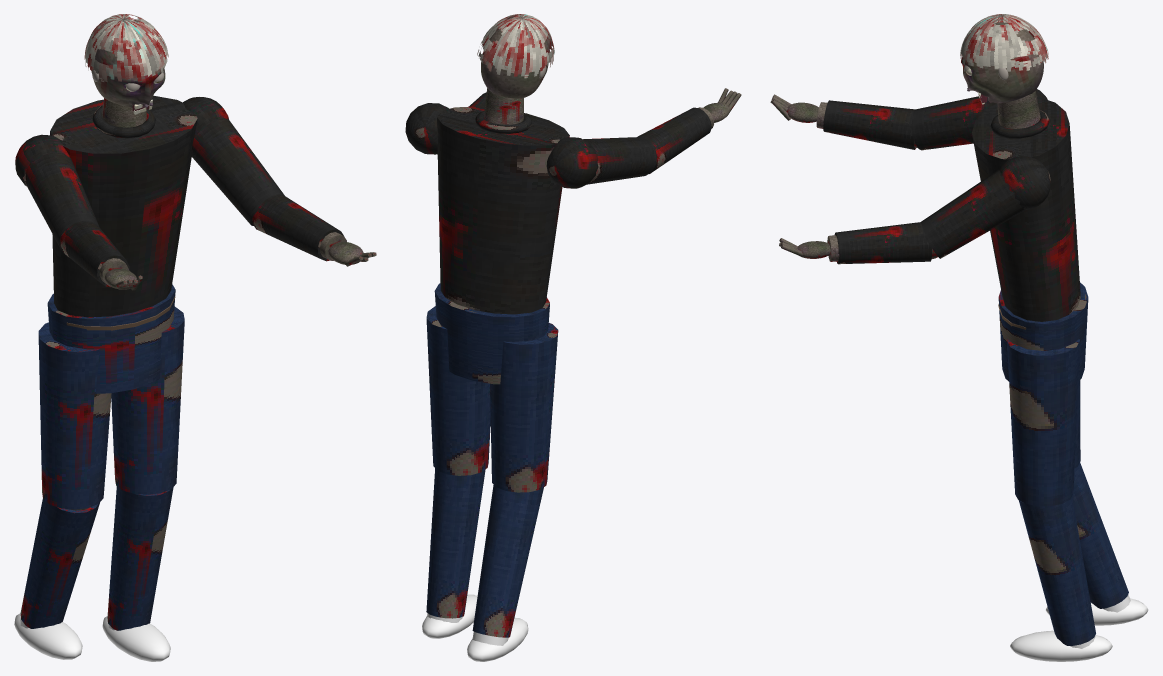
Rendered from Zombie_040.glb.
The picture shows the model from 3 angles, left to right: view 1: azimuth 30°, elevation 25°; view 2: azimuth 150°, elevation 25°; view 3: azimuth 270°, elevation 25°; orthographic projection. The views are drawn at different scales.
Parts seen in each view (by area): view 1: Zombie_040, object 44, object 12, object 4, object 18, object 13; view 2: Zombie_040, object 44, object 4, object 18; view 3: Zombie_040, object 12, object 4, object 44, object 18, object 43, object 5.
Boxes of the visible parts, x1=… form: Zombie_040: x1=14, y1=95, x2=284, y2=661; object 44: x1=84, y1=14, x2=168, y2=81; object 12: x1=252, y1=194, x2=344, y2=261; object 4: x1=60, y1=221, x2=129, y2=287; object 18: x1=91, y1=49, x2=165, y2=108; object 13: x1=328, y1=242, x2=363, y2=264; Zombie_040: x1=405, y1=88, x2=656, y2=661; object 44: x1=477, y1=14, x2=554, y2=76; object 4: x1=637, y1=107, x2=711, y2=173; object 18: x1=481, y1=29, x2=550, y2=98; Zombie_040: x1=911, y1=89, x2=1148, y2=661; object 12: x1=834, y1=222, x2=931, y2=264; object 4: x1=823, y1=100, x2=915, y2=149; object 44: x1=960, y1=14, x2=1048, y2=68; object 18: x1=961, y1=22, x2=1043, y2=104; object 43: x1=962, y1=19, x2=1046, y2=71; object 5: x1=786, y1=102, x2=818, y2=122.
Bounding box in the file's own units: 0.761 × 1.87 × 1.03.
Materials: 15 (6 with a texture image).
